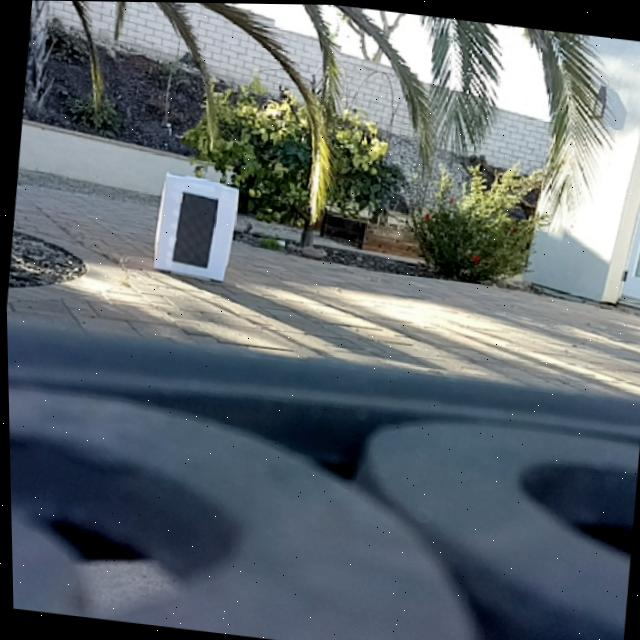led: (170, 191, 217, 269)
